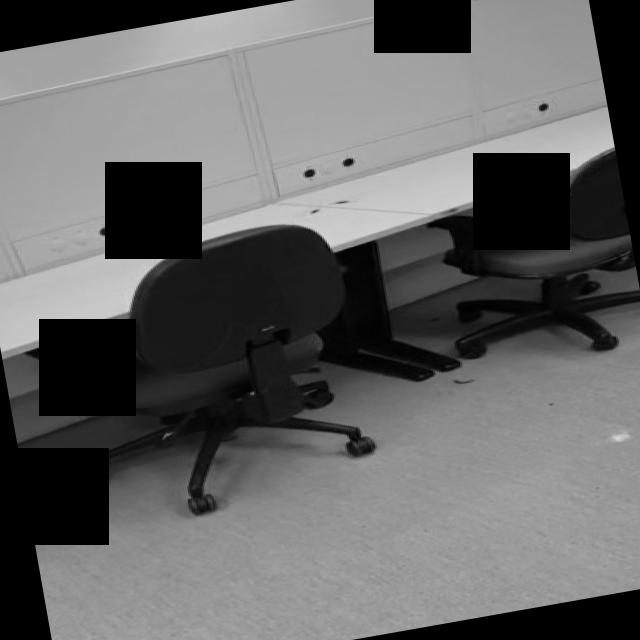cadeira-azul: (9, 212, 384, 540)
